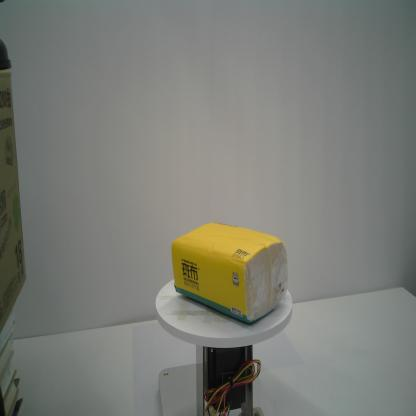Tissue: (169, 217, 290, 324)
